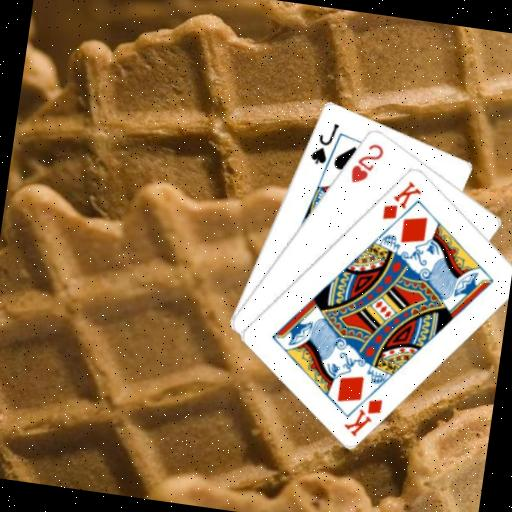2H: (346, 137, 387, 188)
JS: (306, 117, 341, 168)
KD: (378, 175, 425, 226), (340, 391, 386, 442)
